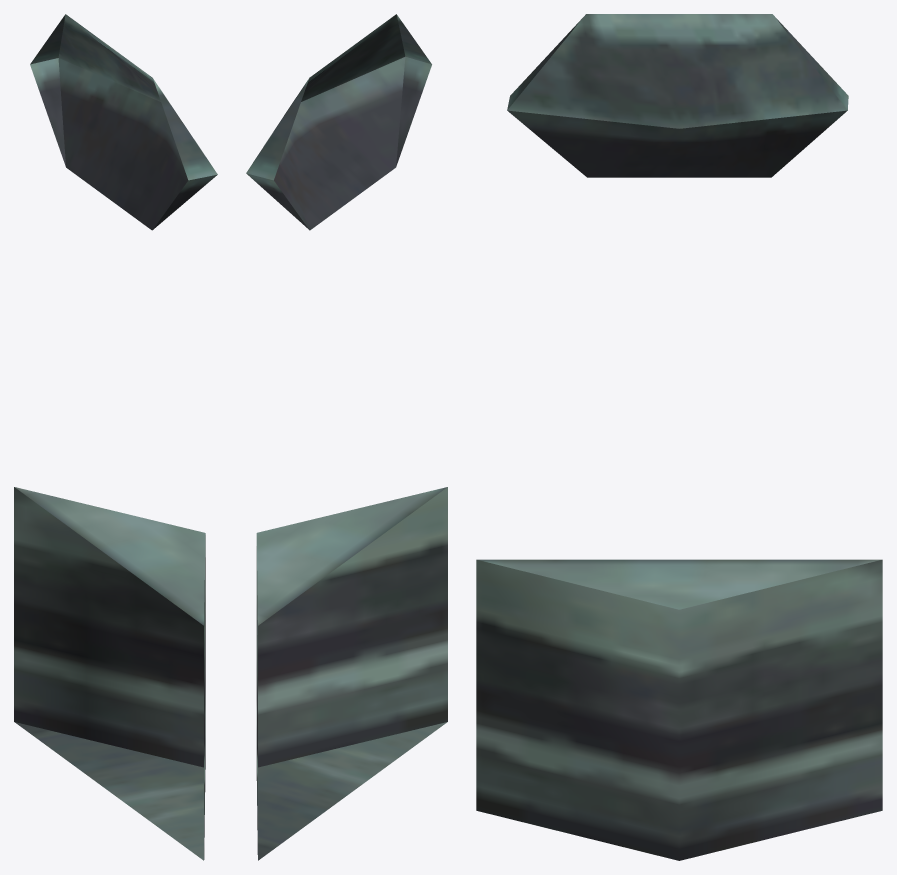
File: crypt_railing_cap_01.fbx
The picture shows the model from 3 angles, left to right: view 1: azimuth 30°, elevation 25°; view 2: azimuth 150°, elevation 25°; view 3: azimuth 270°, elevation 25°; orthographic projection. The views are drawn at different scales.
Visible parts, largest first — view 1: crypt_railing_cap_01-0; view 2: crypt_railing_cap_01-0; view 3: crypt_railing_cap_01-0.
Boxes of the visible parts, bbox=[...] form: crypt_railing_cap_01-0: bbox=[14, 14, 217, 860]; crypt_railing_cap_01-0: bbox=[246, 14, 447, 860]; crypt_railing_cap_01-0: bbox=[476, 14, 882, 860].
Size of the model in its own units: 0.217 by 1.6 by 0.7416.
